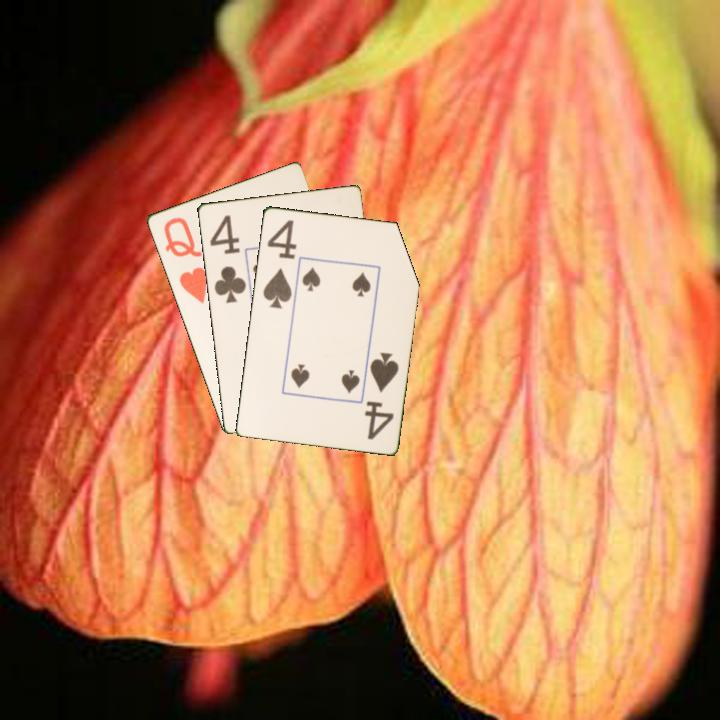4c: (206, 211, 249, 306)
4s: (259, 216, 300, 311), (361, 348, 401, 442)
Qh: (160, 213, 210, 306)
